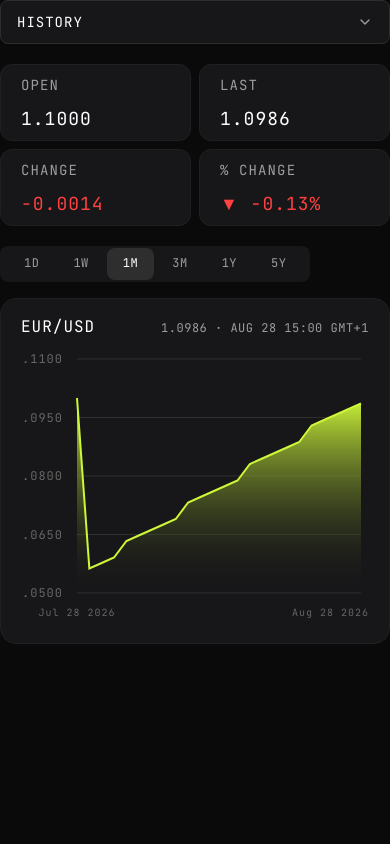
Test: NavigationTabs › supports mobile dropdown tab selection
Click the button "History" at coordinates (50, 22), box [0, 0, 389, 44]
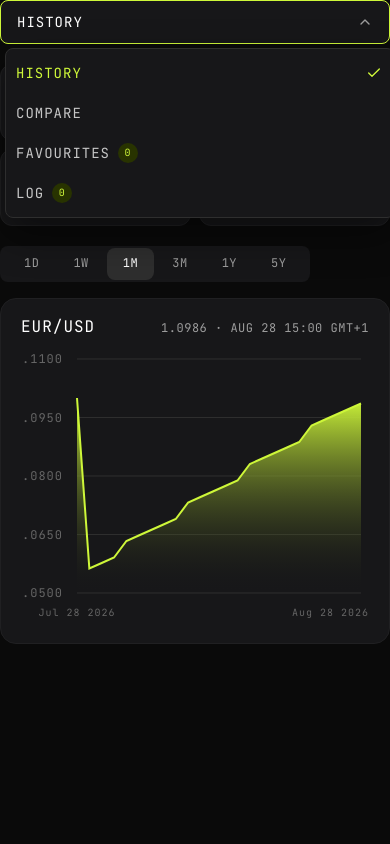
Click the menu item "Compare" at coordinates (49, 113), box [16, 104, 82, 122]
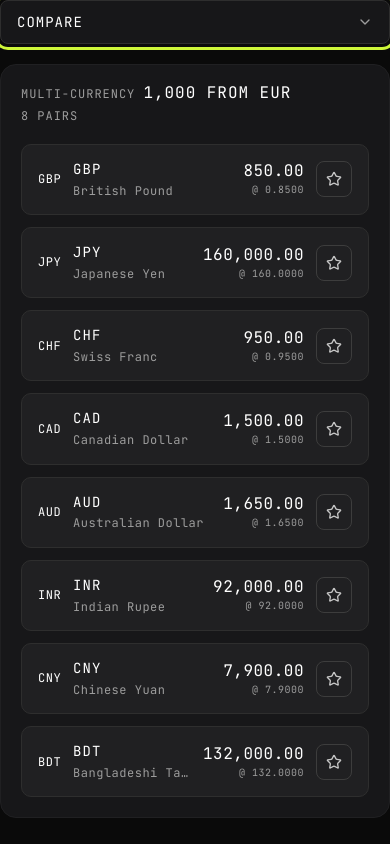
Now the text "Multi-currency 1,000 from EUR" is shown, box [21, 85, 291, 101]
